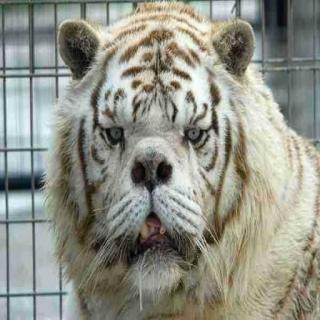Tiger: (19, 1, 320, 311)
